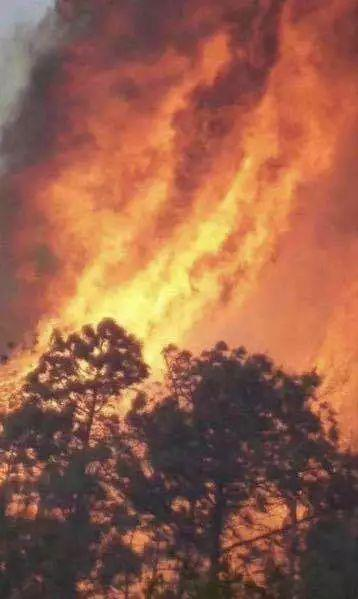fire: (16, 33, 354, 404)
